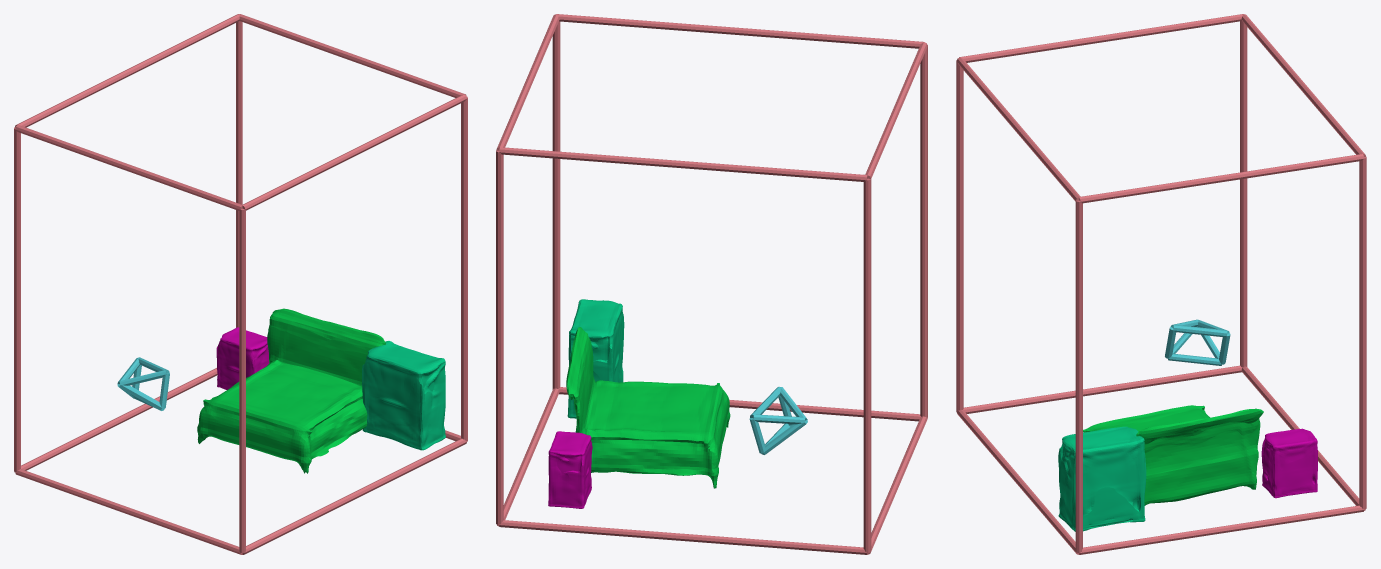
3 views of the same model, side by side, from view 1: azimuth 30°, elevation 25°; view 2: azimuth 150°, elevation 25°; view 3: azimuth 270°, elevation 25° (orthographic). The views are drawn at different scales.
Visible parts, largest first — view 1: world; view 2: world; view 3: world.
Boxes of the visible parts, left/top/right/bottom form: world: left=14, top=14, right=467, bottom=554; world: left=496, top=14, right=927, bottom=554; world: left=956, top=14, right=1366, bottom=554.
Bounding box in the file's own units: 6.05 × 5.42 × 5.63.
